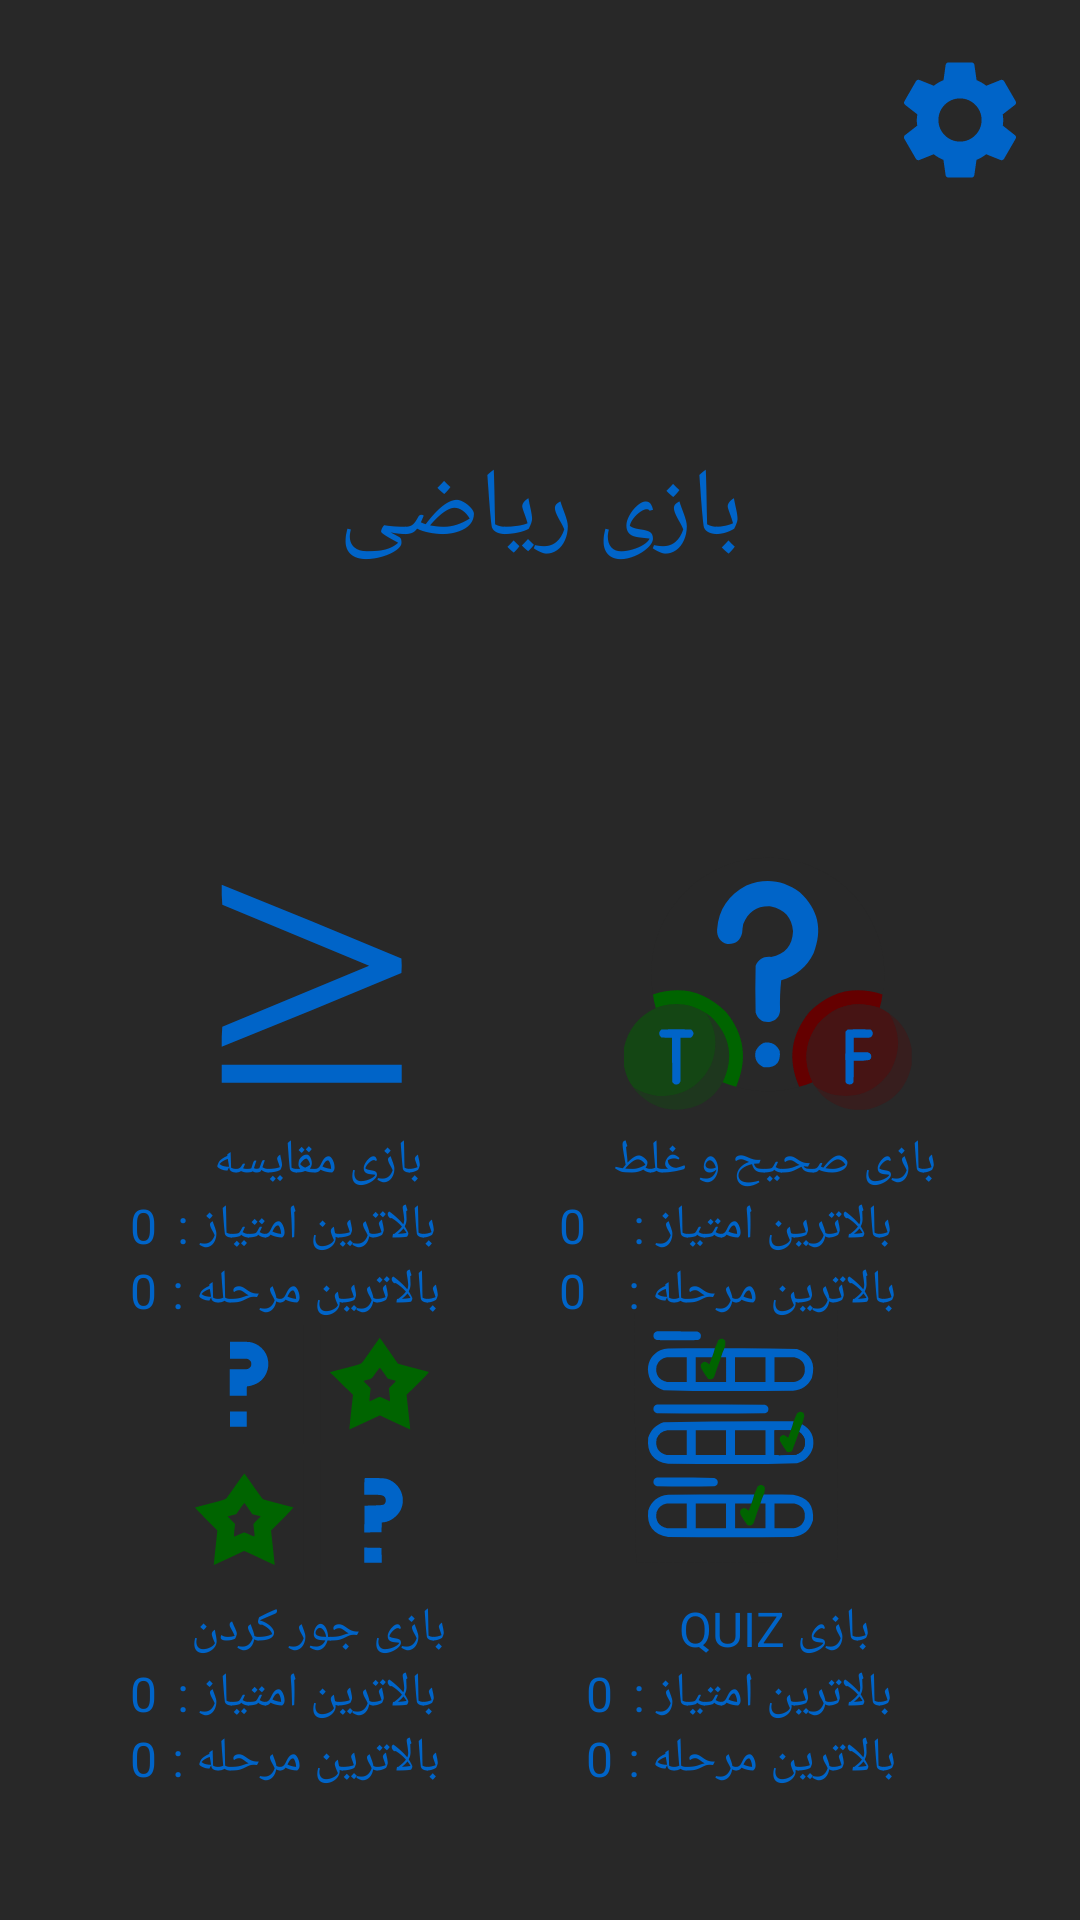

Screen size 1080×1920. Icon name, then its box in pixels as [left=x1, top=y1, right=x2, bottom=y2]:
greater than equal: [left=221, top=885, right=402, bottom=1083]
memory: [left=176, top=1308, right=436, bottom=1565]
تنظیمات: [left=904, top=62, right=1016, bottom=178]
